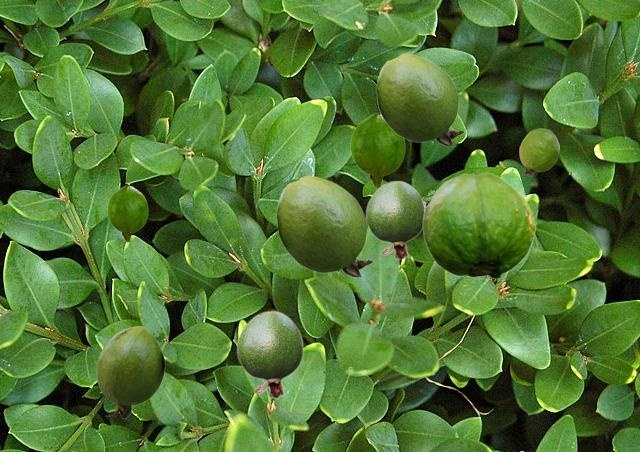guava: (422, 172, 534, 278), (276, 175, 372, 276), (376, 53, 463, 145), (96, 326, 164, 418), (236, 310, 303, 398), (365, 180, 425, 259), (350, 113, 404, 187), (107, 185, 147, 241), (519, 128, 558, 175)
